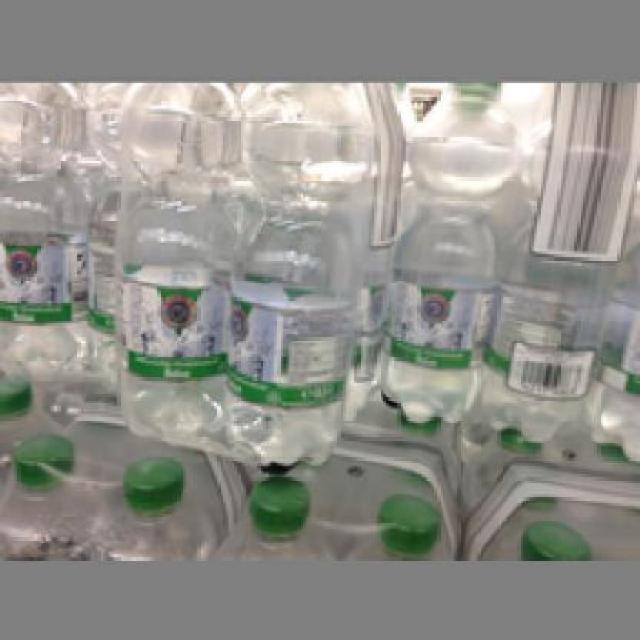Water: (217, 80, 374, 469), (368, 79, 512, 412), (106, 80, 232, 443), (0, 80, 92, 384)
